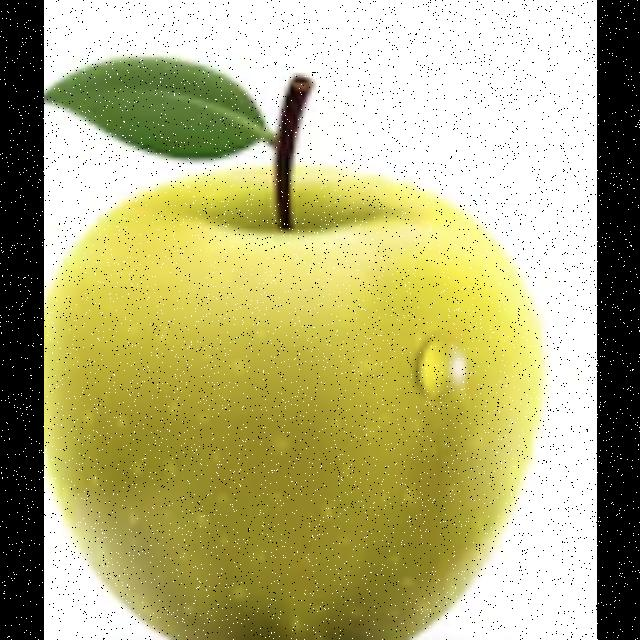Apel Segar: (43, 157, 541, 640)
